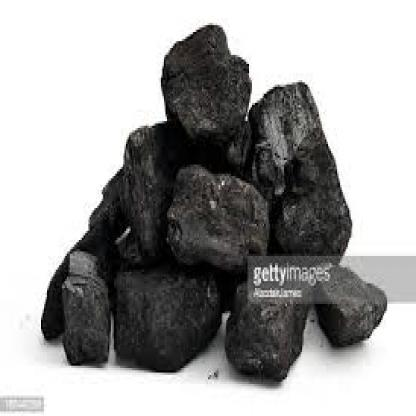Sedimentary_coal: (247, 75, 358, 270), (164, 155, 298, 292), (117, 252, 232, 377), (150, 9, 249, 144), (218, 254, 312, 377), (314, 256, 402, 352), (51, 244, 113, 350)
